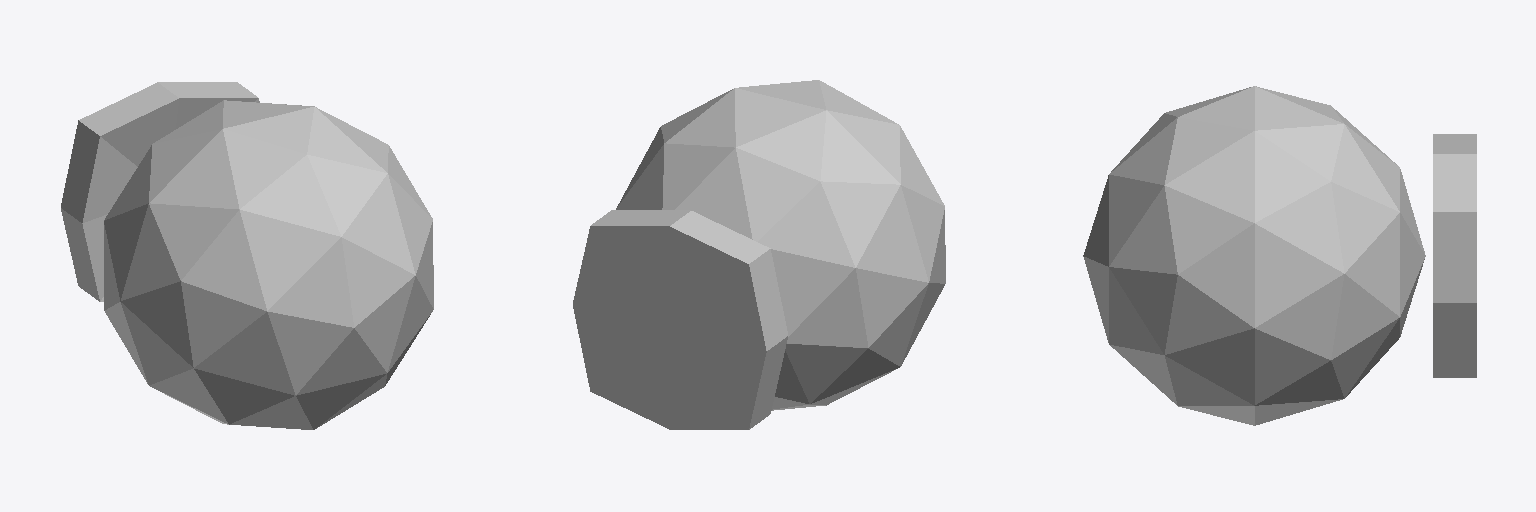
File: radar.obj
The picture shows the model from 3 angles: view 1: azimuth 30°, elevation 25°; view 2: azimuth 150°, elevation 25°; view 3: azimuth 270°, elevation 25°; orthographic projection.
Visible parts, largest first — view 1: radar; view 2: radar; view 3: radar.
Boxes of the visible parts, box(x1,y1,x2,y2) form: radar: box(61, 82, 433, 429); radar: box(573, 80, 945, 429); radar: box(1083, 86, 1476, 425).
Size of the model in its own units: 1 by 0.9511 by 1.15.